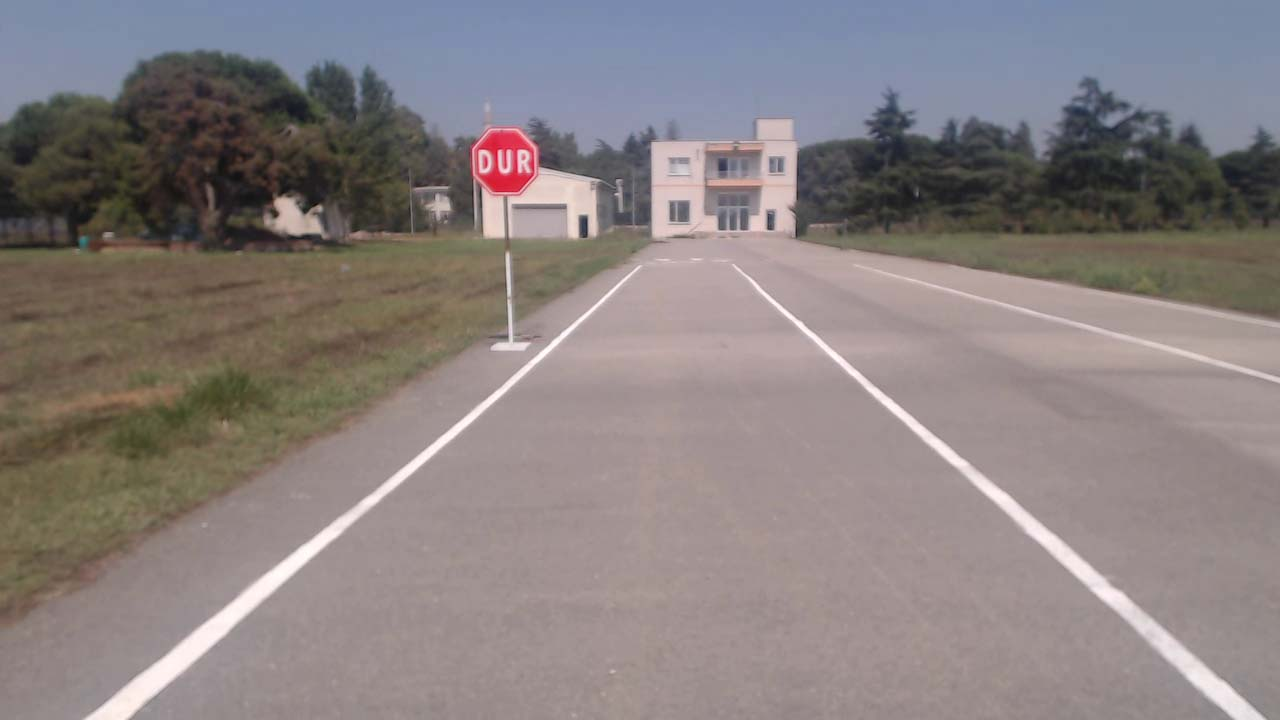arac_dur_isareti: (448, 83, 580, 330)
